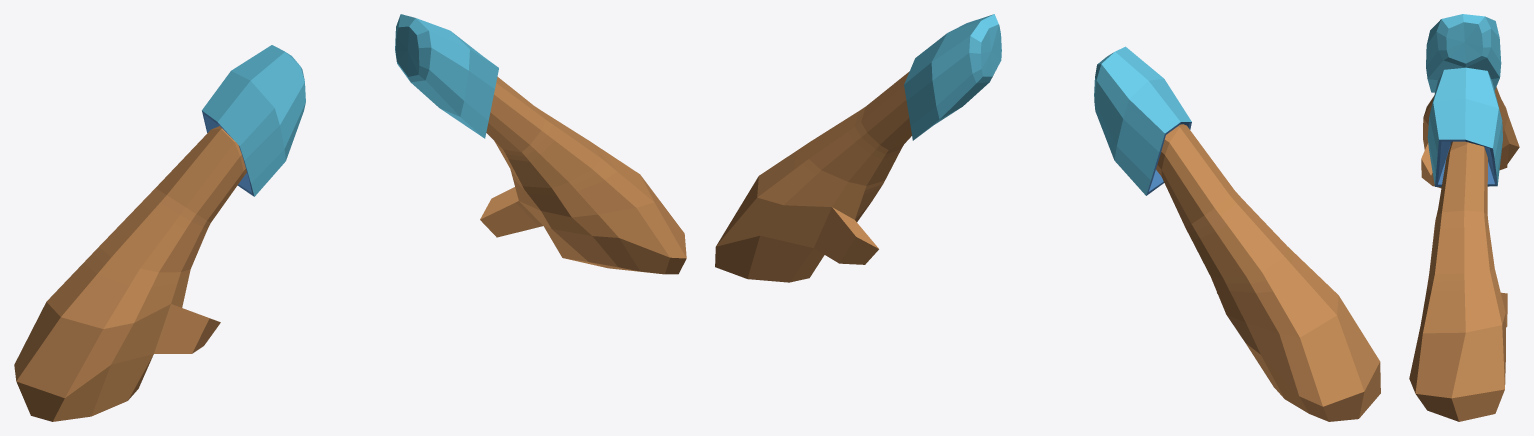
Rendered from hands.fbx.
3 renders of one model, left to right at view 1: azimuth 30°, elevation 25°; view 2: azimuth 150°, elevation 25°; view 3: azimuth 270°, elevation 25°, orthographic. The views are drawn at different scales.
Visible parts, largest first — view 1: ArmLeft, ArmRight; view 2: ArmLeft, ArmRight; view 3: ArmRight, ArmLeft.
Boxes of the visible parts, bbox=[...] form: ArmLeft: bbox=[14, 45, 305, 421]; ArmRight: bbox=[395, 14, 686, 274]; ArmLeft: bbox=[1094, 46, 1380, 421]; ArmRight: bbox=[715, 14, 1001, 282]; ArmRight: bbox=[1409, 67, 1507, 421]; ArmLeft: bbox=[1421, 14, 1519, 188].
Size of the model in its own units: 325 by 145 by 57.47.
